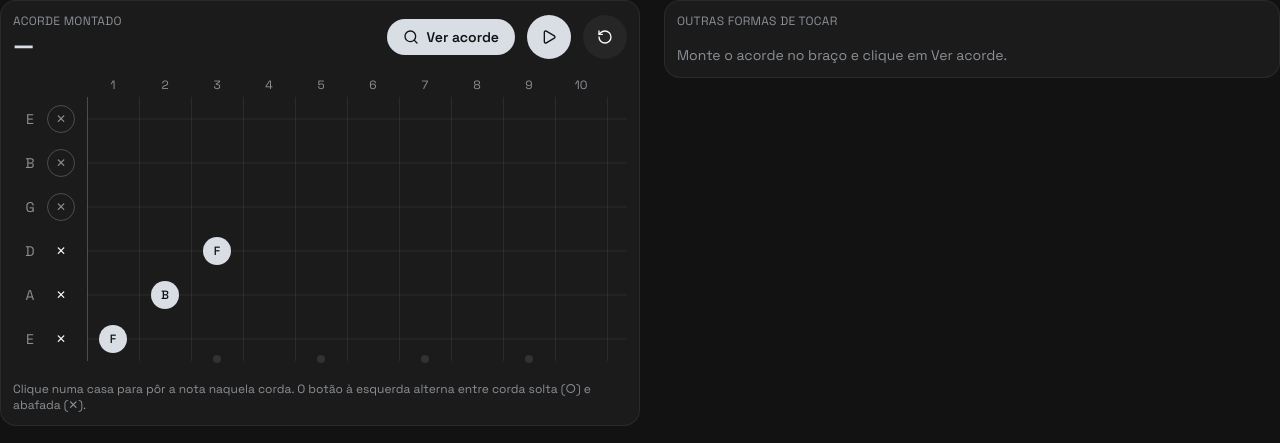
Test: ChordPanel › says so when the notes form no chord it knows
Click the button "Ver acorde".
click(451, 37)  # box [386,19,515,55]
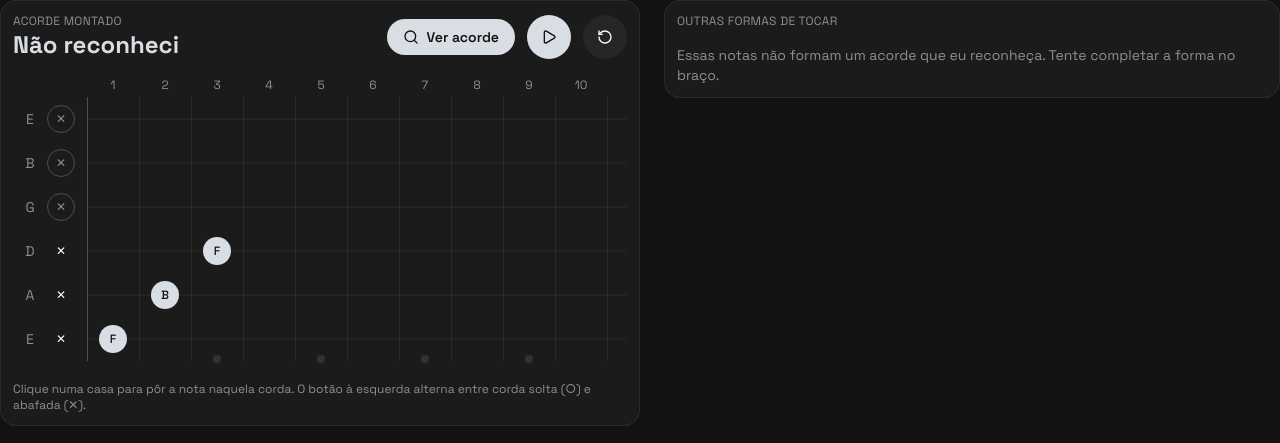
Result: the text with test id "chord-name" reads "Não reconheci" at [13,29,179,60]
